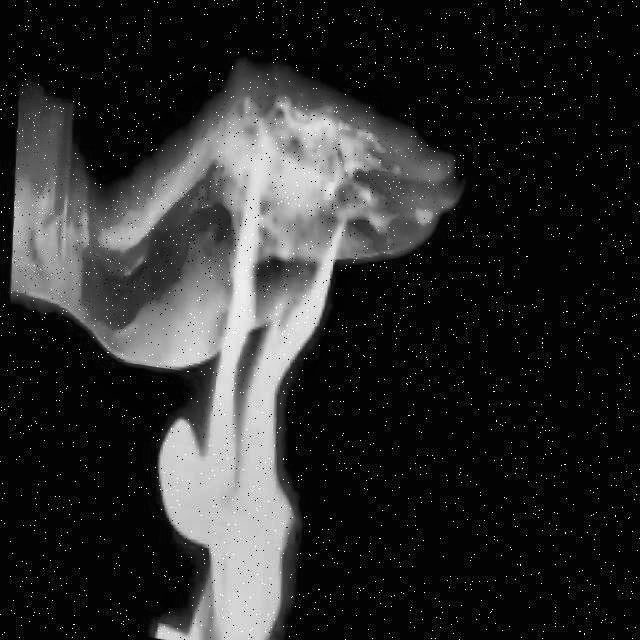Fire: (119, 102, 369, 640)
